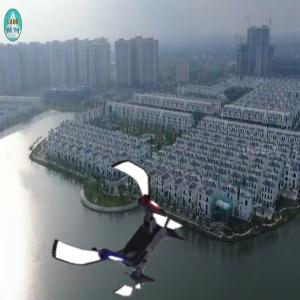drone: (57, 160, 195, 298)
